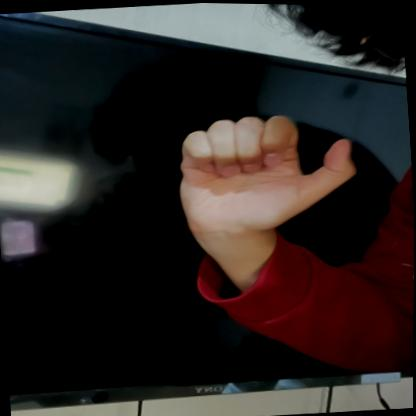E: (169, 102, 365, 239)
